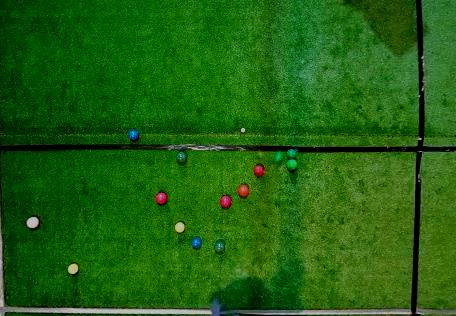blue: (191, 237, 202, 249), (128, 129, 139, 140)
green: (176, 151, 188, 164), (272, 151, 284, 163), (286, 159, 298, 171), (214, 240, 225, 253), (286, 149, 298, 159)
red: (26, 217, 40, 228), (155, 192, 167, 204), (220, 196, 231, 209), (253, 164, 264, 176), (238, 184, 249, 196)
vline: (411, 1, 456, 315), (0, 1, 9, 315)
white: (241, 128, 245, 133)
yellow: (67, 263, 79, 274), (175, 222, 185, 233)
